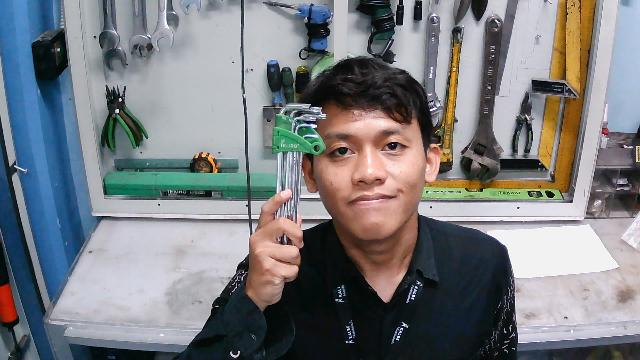kunci_l_bintang: (262, 98, 331, 259)
